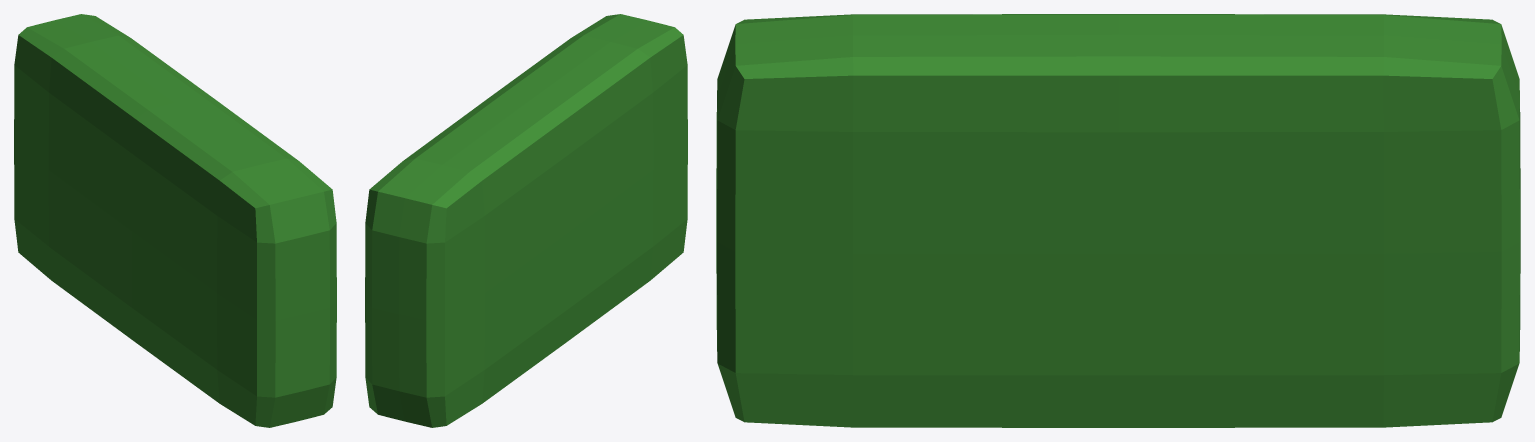
File: green_big_sign.fbx
3 views of the same model, side by side, from view 1: azimuth 30°, elevation 25°; view 2: azimuth 150°, elevation 25°; view 3: azimuth 270°, elevation 25° (orthographic). The views are drawn at different scales.
Parts seen in each view (by area): view 1: Cube; view 2: Cube; view 3: Cube.
Part boxes in pixels (<box>): Cube: <box>14,14,336,427</box>; Cube: <box>365,14,687,427</box>; Cube: <box>716,14,1520,427</box>.
Size of the model in its own units: 258 by 675 by 1321.
